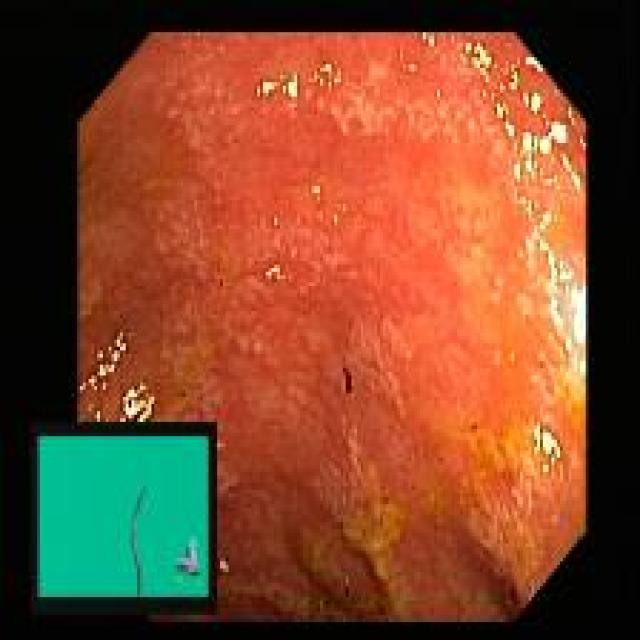ulcerative-colitis: (79, 33, 586, 620)
